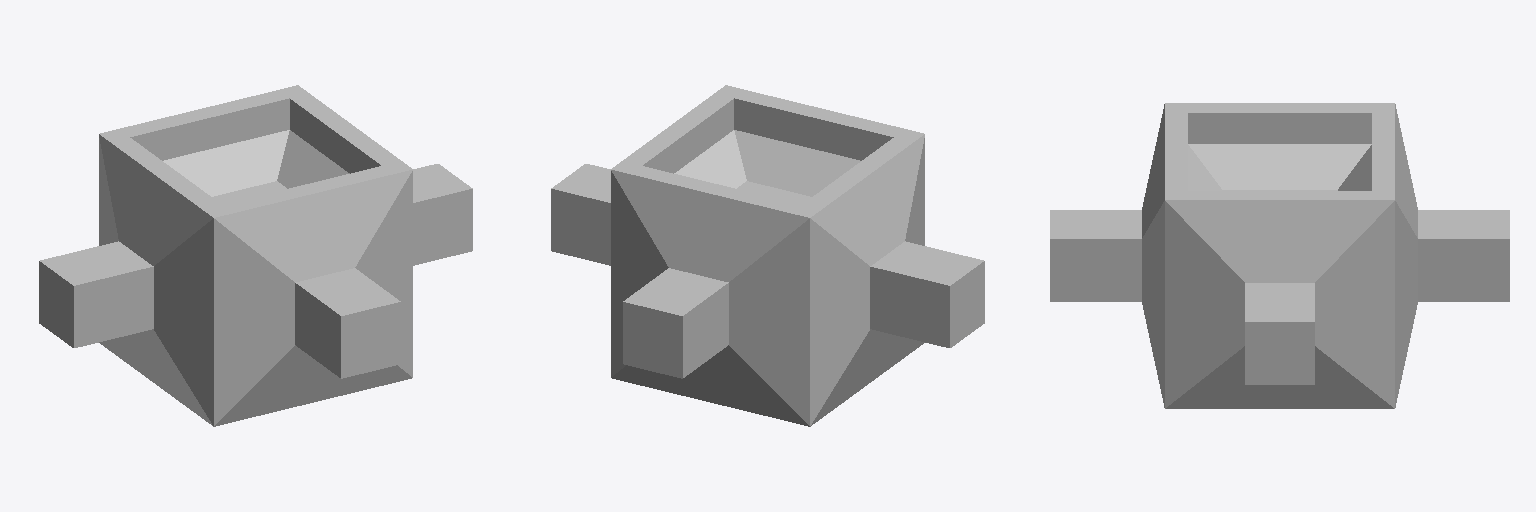
File: fuel tank.obj
3 views of the same model, side by side, from view 1: azimuth 30°, elevation 25°; view 2: azimuth 150°, elevation 25°; view 3: azimuth 270°, elevation 25° (orthographic).
Visible parts, largest first — view 1: fuel tank.obj; view 2: fuel tank.obj; view 3: fuel tank.obj.
Part boxes in pixels (x1,y1,x2,y2): fuel tank.obj: (39, 85, 472, 426); fuel tank.obj: (551, 85, 984, 426); fuel tank.obj: (1050, 103, 1509, 408).
Size of the model in its own units: 2 by 1 by 2.